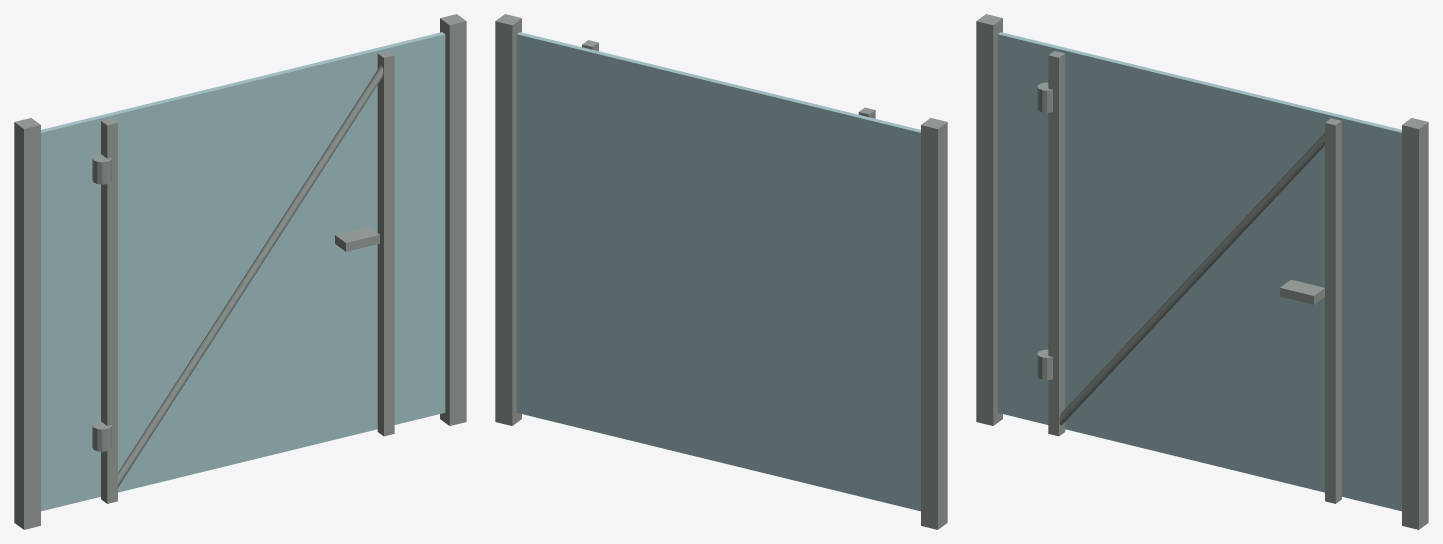
The model's file is zoo-and-safari-park-builder-glass-viewing-gate-3916a0c7__21434.glb.
3 views of the same model, side by side, from view 1: azimuth 30°, elevation 25°; view 2: azimuth 150°, elevation 25°; view 3: azimuth 330°, elevation 25° (orthographic).
Parts seen in each view (by area): view 1: glass-viewing-gate; view 2: glass-viewing-gate; view 3: glass-viewing-gate.
Boxes of the visible parts, <box> form: glass-viewing-gate: <box>14,14,466,529</box>; glass-viewing-gate: <box>495,14,947,529</box>; glass-viewing-gate: <box>976,14,1428,529</box>.
Bounding box in the file's own units: 2.08 × 1.8 × 0.1549.
